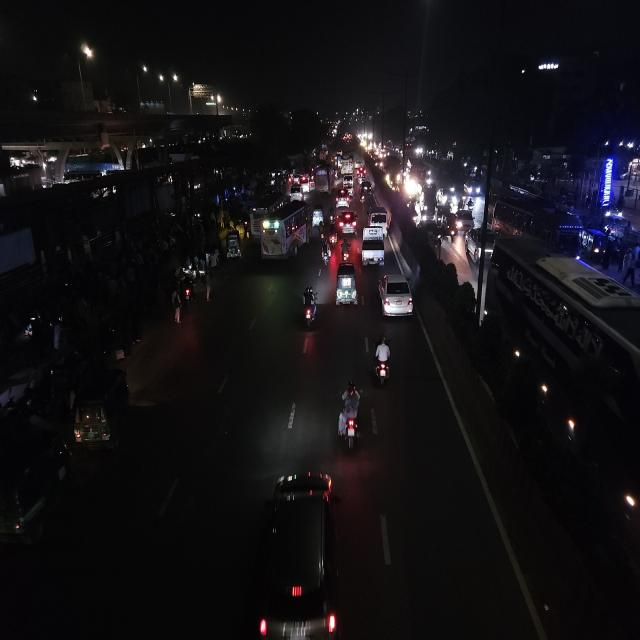bus: (492, 242, 640, 572), (489, 194, 582, 255), (259, 198, 310, 266), (315, 162, 333, 194), (409, 162, 427, 192)
car: (250, 466, 342, 640), (376, 268, 414, 324), (464, 224, 496, 268), (336, 206, 358, 236), (452, 208, 474, 230), (336, 189, 348, 209), (289, 184, 304, 200), (342, 173, 354, 192)
cng: (0, 429, 70, 558), (71, 364, 131, 459), (334, 259, 359, 310), (312, 203, 326, 230), (359, 185, 371, 205)
motorcycle: (335, 380, 365, 454), (372, 333, 392, 391), (299, 285, 318, 331), (180, 268, 196, 306), (321, 238, 332, 270), (340, 236, 352, 264), (448, 217, 457, 245)
pedestrian: (169, 288, 183, 329), (203, 268, 214, 308)
pickup_van: (360, 223, 384, 268)
rickshaw: (224, 229, 242, 262)
